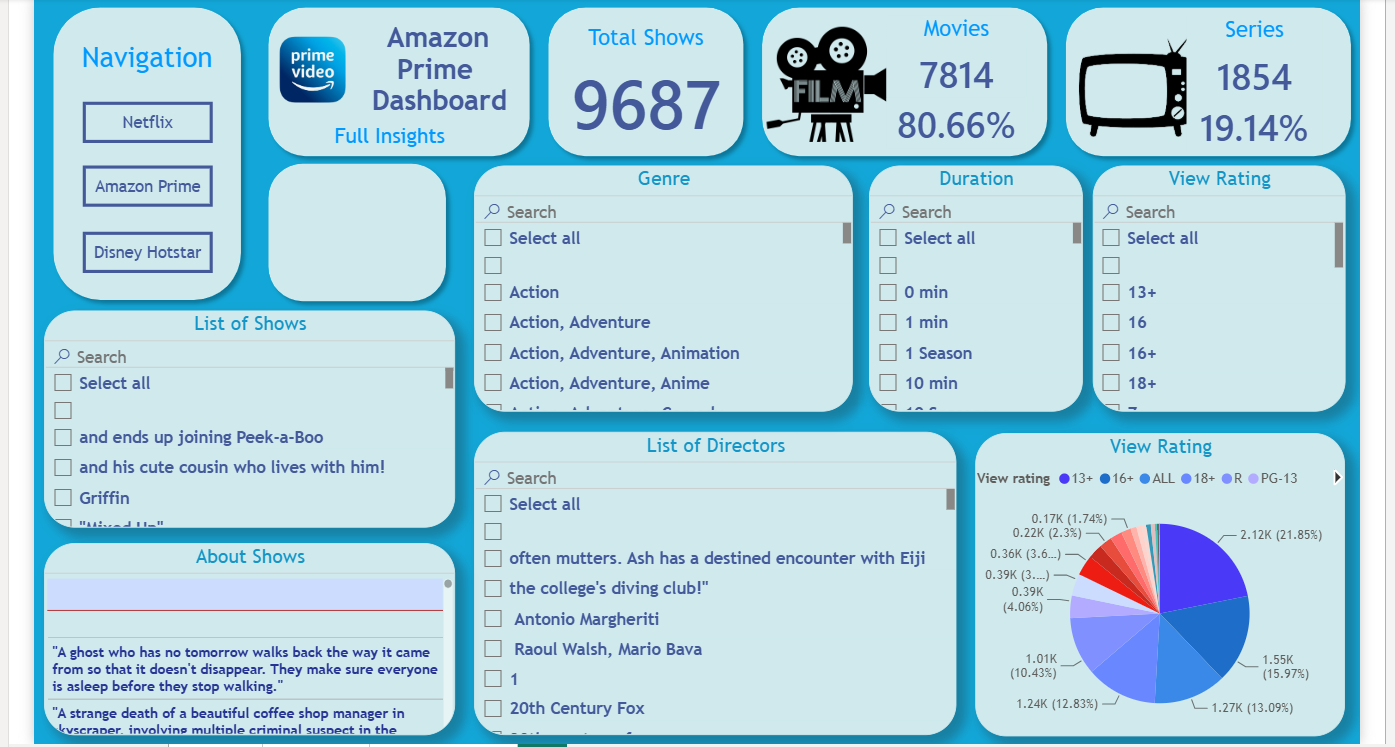

What the dashboard file says about the page in this screenshot:
{"tool":"powerbi","page":{"name":"Amazon","canvas":[1280,720],"ordinal":1},"visuals":[{"type":"slicer","title":"List of Shows","fields":{"Values":["amazon_prime_titles.title"]},"box":[9.7,301.6,396.9,209.9],"z":0},{"type":"slicer","title":"List of Directors","fields":{"Values":["amazon_prime_titles.director"]},"box":[424.7,418.6,465.7,293.2],"z":1000},{"type":"slicer","title":"Genre","fields":{"Values":["amazon_prime_titles.listed_in"]},"box":[424.7,161.7,365.6,237.7],"z":2000},{"type":"slicer","title":"Duration","fields":{"Values":["amazon_prime_titles.duration"]},"box":[805.9,161.7,206.3,237.7],"z":3000},{"type":"slicer","title":"View Rating","fields":{"Values":["amazon_prime_titles.rating"]},"box":[1021.9,161.7,243.7,237.7],"z":4000},{"type":"pieChart","title":"View Rating","fields":{"Category":["amazon_prime_titles.rating"],"Y":["CountNonNull(amazon_prime_titles.title)"]},"box":[908.4,419.8,357.1,293.2],"z":5000},{"type":"shape","box":[9.7,0,199.1,300.4],"z":6000},{"type":"shape","box":[217.2,150.8,189.4,150.8],"z":7000},{"type":"shape","box":[217.2,0,270.2,161.7],"z":8000},{"type":"shape","box":[487.4,0,206.3,161.7],"z":9000},{"type":"shape","box":[693.7,0,293.2,161.7],"z":10000},{"type":"shape","box":[986.9,0,293.2,161.7],"z":11000},{"type":"image","box":[707,20.5,115.8,125.5],"z":12000},{"type":"image","box":[1001.3,19.3,132.7,114.6],"z":13000},{"type":"image","box":[224.4,25.3,88.1,88.1],"z":14000},{"type":"tableEx","title":"About Shows","fields":{"Values":["amazon_prime_titles.description"]},"box":[9.7,526,396.9,185.8],"z":15000},{"type":"textbox","title":"Navigation","box":[30.2,42.2,158,35],"z":16000},{"type":"actionButton","box":[47.1,225.6,125.5,39.8],"z":17000},{"type":"actionButton","box":[47.1,161.7,125.5,39.8],"z":18000},{"type":"actionButton","box":[47.1,100.1,125.5,39.8],"z":19000},{"type":"textbox","box":[320.9,18.1,142.4,103.8],"z":20000},{"type":"textbox","title":"Full Insights","box":[269,121.9,148.4,26.5],"z":21000},{"type":"cardVisual","title":"Total Shows","fields":{"Data":["amazon_prime_titles.Shows Prime"]},"box":[509.1,25.3,162.9,114.6],"z":22000},{"type":"cardVisual","title":"Movies","fields":{"Data":["amazon_prime_titles.Movies Amazon","amazon_prime_titles.%movies amazon"]},"box":[822.8,16.9,135.1,129.1],"z":23000},{"type":"cardVisual","title":"Series","fields":{"Data":["amazon_prime_titles.Shows Amazon","amazon_prime_titles.%series amazon"]},"box":[1112.3,18.1,131.5,130.3],"z":24000}]}

Visuals, with their boxes on the page's 1280x720 design canvas (x1, y1, x2, y2). These are canvas units, not pixel positions in the 1395x747 screenshot, which may show the page scaled, cropped or inside an application window:
"List of Shows" slicer: x1=10 y1=302 x2=407 y2=512
"List of Directors" slicer: x1=425 y1=419 x2=890 y2=712
"Genre" slicer: x1=425 y1=162 x2=790 y2=399
"Duration" slicer: x1=806 y1=162 x2=1012 y2=399
"View Rating" slicer: x1=1022 y1=162 x2=1266 y2=399
"View Rating" pieChart: x1=908 y1=420 x2=1266 y2=713
shape: x1=10 y1=0 x2=209 y2=300
shape: x1=217 y1=151 x2=407 y2=302
shape: x1=217 y1=0 x2=487 y2=162
shape: x1=487 y1=0 x2=694 y2=162
shape: x1=694 y1=0 x2=987 y2=162
shape: x1=987 y1=0 x2=1280 y2=162
image: x1=707 y1=20 x2=823 y2=146
image: x1=1001 y1=19 x2=1134 y2=134
image: x1=224 y1=25 x2=312 y2=113
"About Shows" tableEx: x1=10 y1=526 x2=407 y2=712
"Navigation" textbox: x1=30 y1=42 x2=188 y2=77
actionButton: x1=47 y1=226 x2=173 y2=265
actionButton: x1=47 y1=162 x2=173 y2=202
actionButton: x1=47 y1=100 x2=173 y2=140
textbox: x1=321 y1=18 x2=463 y2=122
"Full Insights" textbox: x1=269 y1=122 x2=417 y2=148
"Total Shows" cardVisual: x1=509 y1=25 x2=672 y2=140
"Movies" cardVisual: x1=823 y1=17 x2=958 y2=146
"Series" cardVisual: x1=1112 y1=18 x2=1244 y2=148
